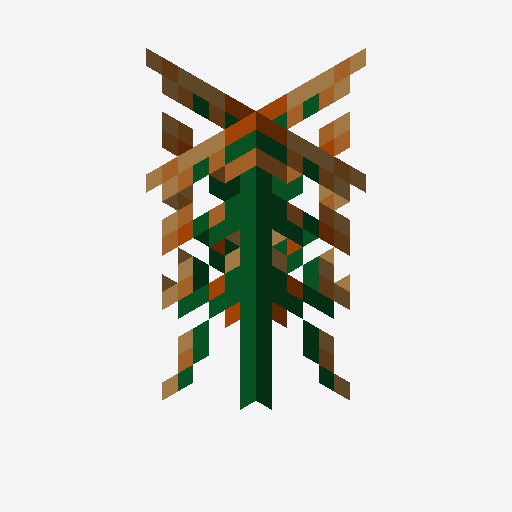
A Minecraft block model of 66 cuboids, rendered isometrically (azimuth 45°, elevation 35.3°) with the resource pack's own textures.
Parts seen in each view (by area): BottomStalk (×2), element 29, element 60, element 6, element 31, element 57, element 62, element 2, element 59, element 30, element 63, element 3 (+27 smaller).
Part boxes in pixels (x1,y1,x2,y2): BottomStalk (×2): (240, 102, 271, 409); element 29: (209, 193, 239, 246); element 60: (272, 193, 302, 246); element 6: (178, 320, 208, 372); element 31: (162, 202, 192, 255); element 57: (303, 320, 333, 372); element 62: (319, 202, 349, 255); element 2: (225, 247, 239, 327); element 59: (272, 247, 286, 327); element 30: (319, 112, 349, 155); element 63: (162, 112, 192, 155); element 3: (225, 121, 239, 182).
Bounding box in the file's own units: 14 × 16 × 14.